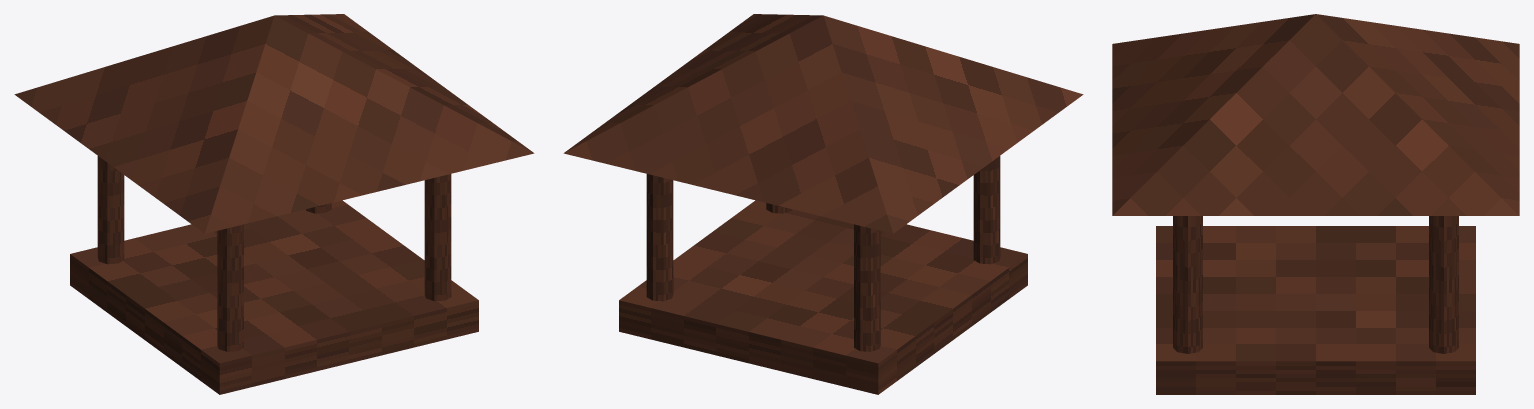
File: pavilion_02.glb
The picture shows the model from 3 angles, left to right: view 1: azimuth 30°, elevation 25°; view 2: azimuth 150°, elevation 25°; view 3: azimuth 270°, elevation 25°; orthographic projection. The views are drawn at different scales.
Parts seen in each view (by area): view 1: Roof, Floor, Column.002, Column, Column.001; view 2: Roof, Floor, Column.003, Column.001, Column; view 3: Roof, Floor, Column.002, Column.003.
Boxes of the visible parts, x1=… form: Roof: x1=14, y1=14, x2=534, y2=233; Floor: x1=70, y1=200, x2=478, y2=394; Column.002: x1=424, y1=174, x2=451, y2=301; Column: x1=217, y1=224, x2=243, y2=351; Column.001: x1=97, y1=156, x2=124, y2=264; Roof: x1=563, y1=14, x2=1083, y2=233; Floor: x1=619, y1=200, x2=1027, y2=394; Column.003: x1=646, y1=174, x2=673, y2=301; Column.001: x1=854, y1=224, x2=880, y2=351; Column: x1=973, y1=156, x2=1000, y2=264; Roof: x1=1112, y1=14, x2=1519, y2=215; Floor: x1=1156, y1=226, x2=1475, y2=394; Column.002: x1=1173, y1=216, x2=1202, y2=353; Column.003: x1=1429, y1=216, x2=1458, y2=353.
Size of the model in its own units: 3.29 by 2.79 by 3.29.
Materials: 1 (1 with a texture image).
